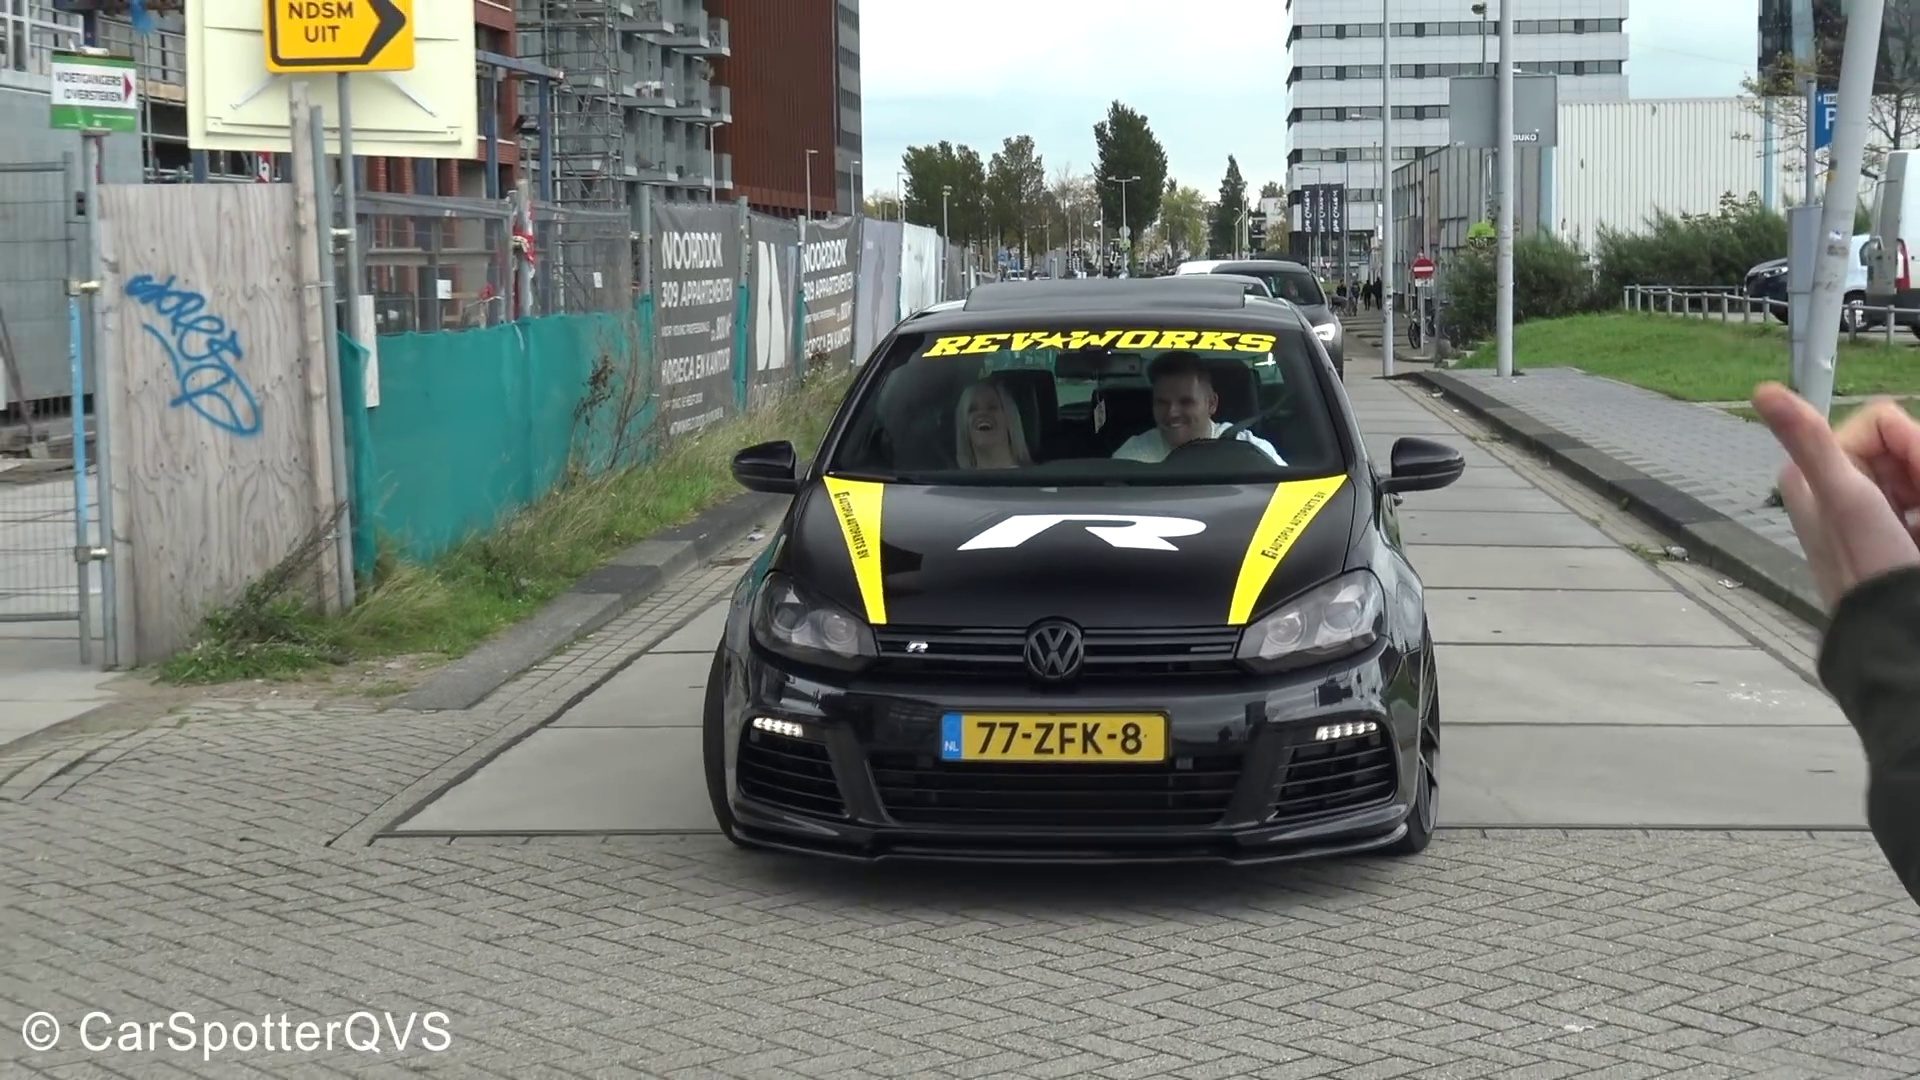num_plate: (938, 709, 1173, 762)
